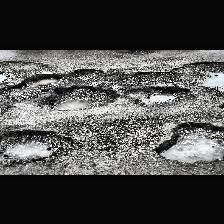pothole: (153, 120, 223, 164), (0, 128, 78, 164), (132, 60, 224, 86), (43, 84, 118, 112), (0, 72, 60, 104), (124, 86, 194, 106), (1, 60, 50, 71), (70, 67, 103, 77)
